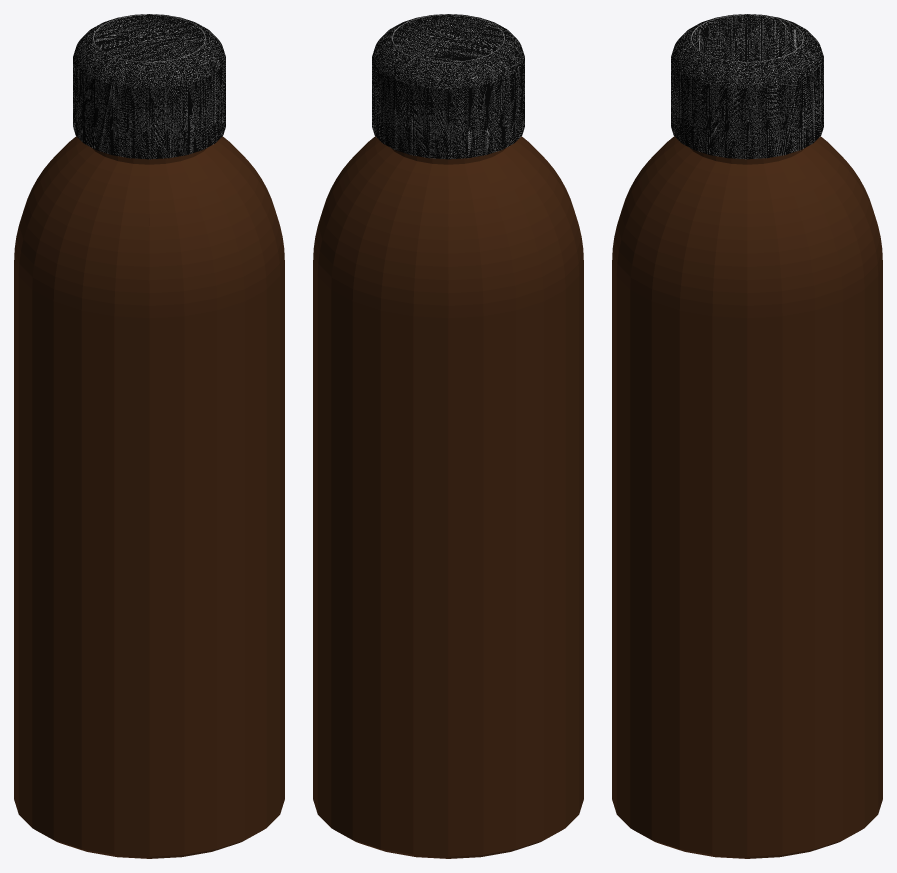
3 renders of one model, left to right at view 1: azimuth 30°, elevation 25°; view 2: azimuth 150°, elevation 25°; view 3: azimuth 270°, elevation 25°, orthographic.
Visible parts, largest first — view 1: mesh1_mesh1-geometry; view 2: mesh1_mesh1-geometry; view 3: mesh1_mesh1-geometry.
Boxes of the visible parts, box(x1,y1,x2,y2) form: mesh1_mesh1-geometry: box(14, 14, 284, 858); mesh1_mesh1-geometry: box(313, 14, 583, 858); mesh1_mesh1-geometry: box(612, 14, 882, 858).
Size of the model in its own units: 0.2896 by 0.9123 by 0.2896.
